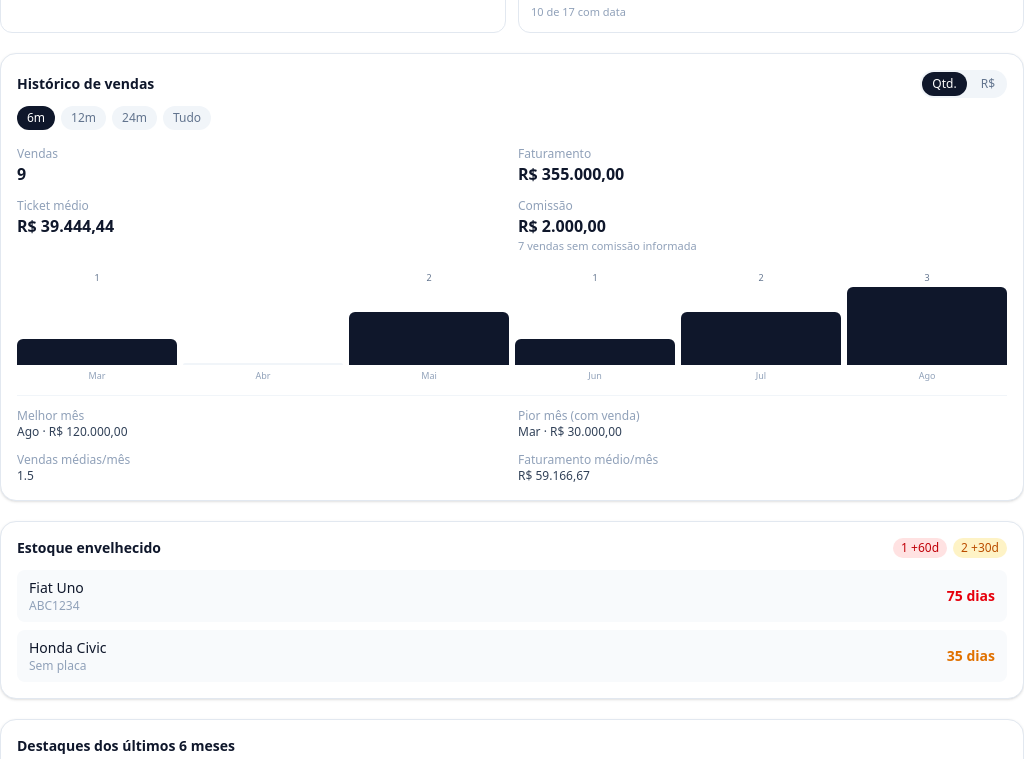
HomePage › shows a month detail on tap, with quantity, revenue, average ticket and known commission
(page scrolled)
expect the text "Histórico de vendas" is shown: met, box [17, 74, 154, 94]
Click the text "Ago": (927, 376) [919, 369, 935, 382]
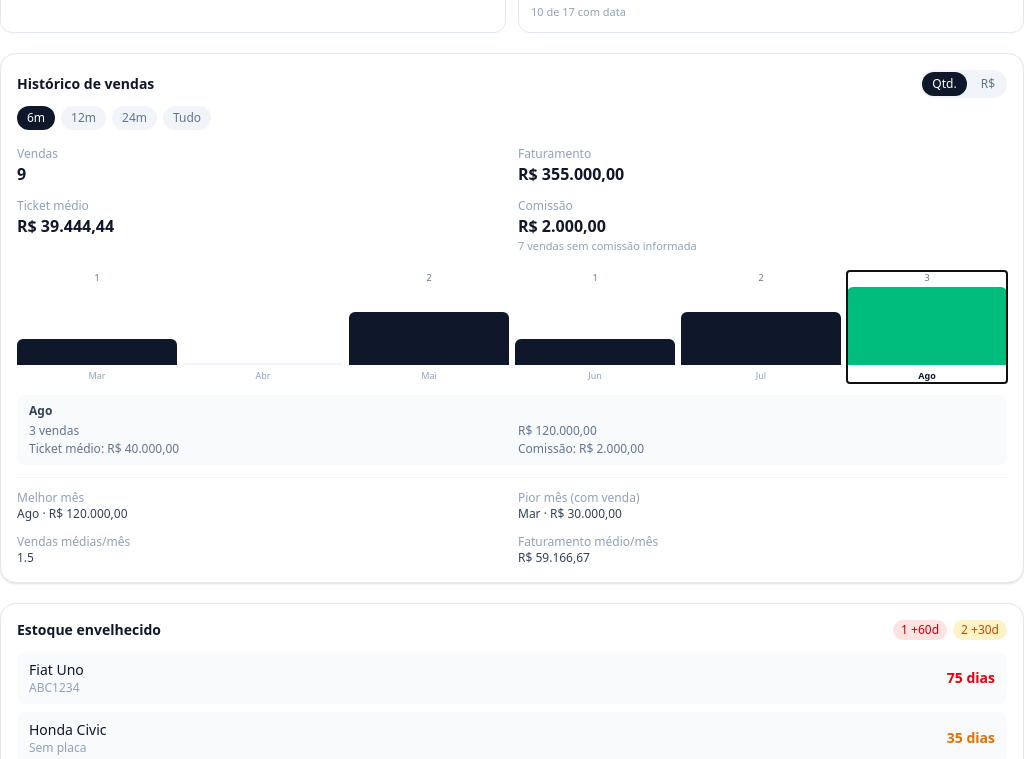
expect the text "3 vendas" is shown: met, box [29, 422, 79, 438]
expect the text "R$ 120.000,00" is shown: met, box [518, 422, 597, 438]
expect the text "Ticket médio: R$ 40.000,00" is shown: met, box [29, 440, 179, 456]
